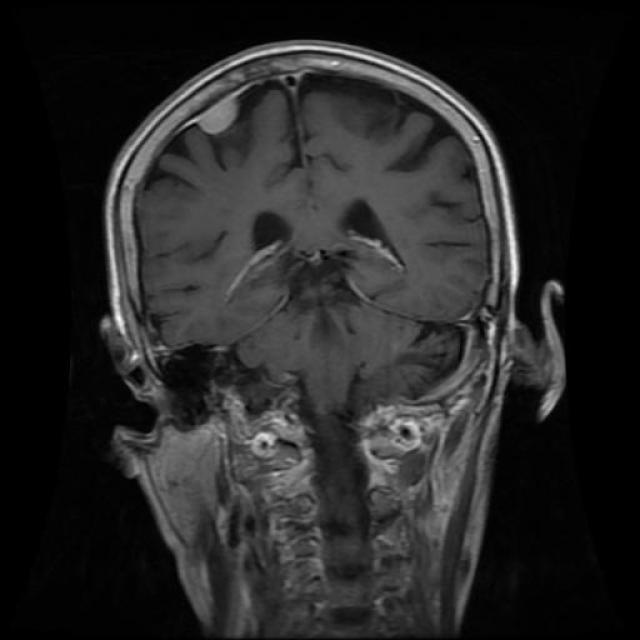meningioma: (199, 99, 240, 135)
